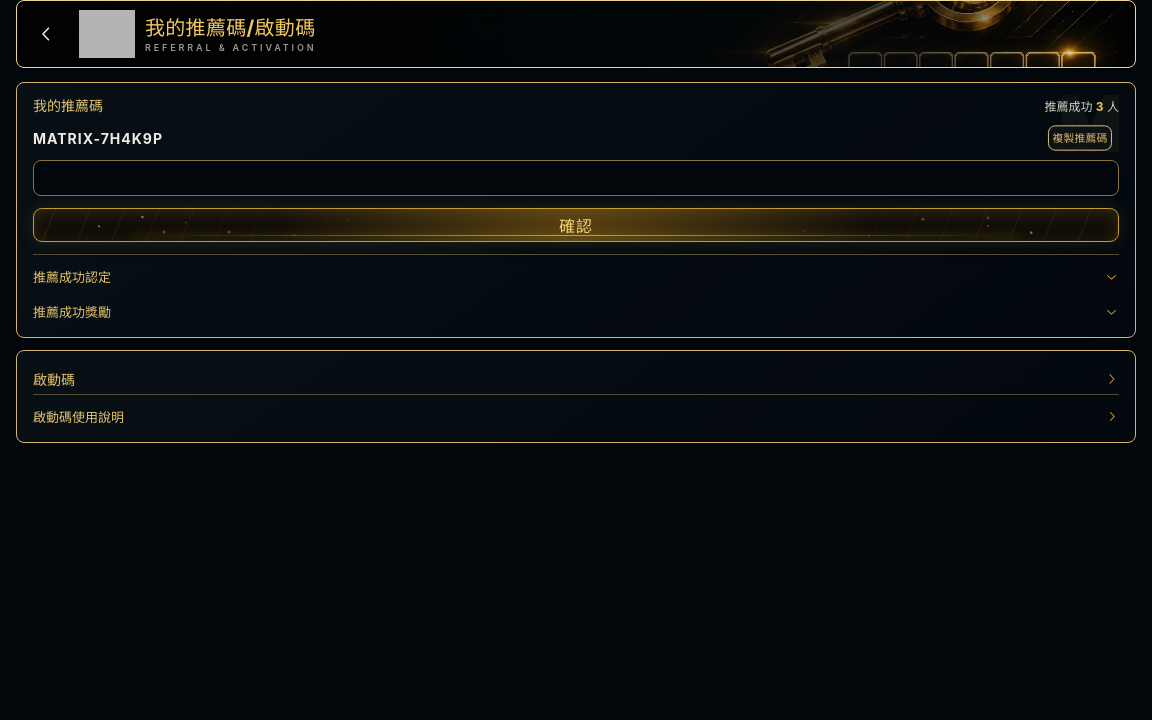
Test case: existing feature actions › shows a safe activation success and clears the redeemed code
Expected: the text "MATRIX-7H4K9P" is shown, [33, 130, 163, 146]
Click the button "啟動碼": click(54, 379) [33, 363, 1119, 395]
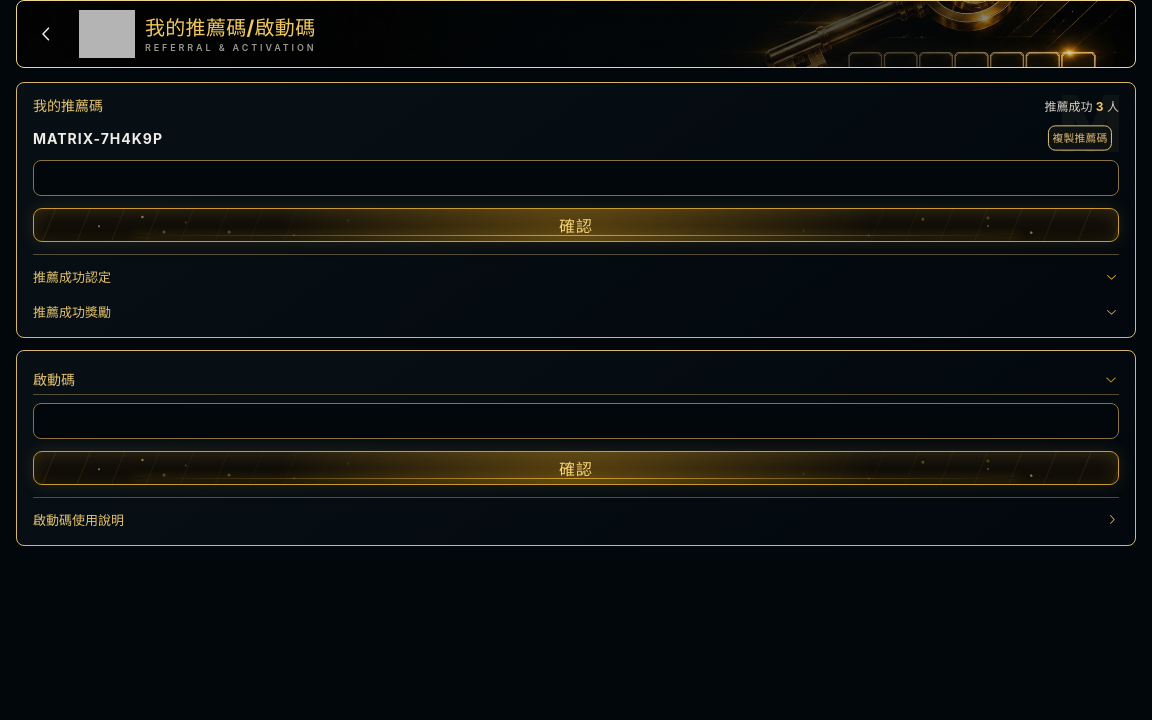
In the field named "啟動碼": (576, 421) [33, 403, 1119, 439], type "A7K9-P2XM-4Q8R-N6TY"
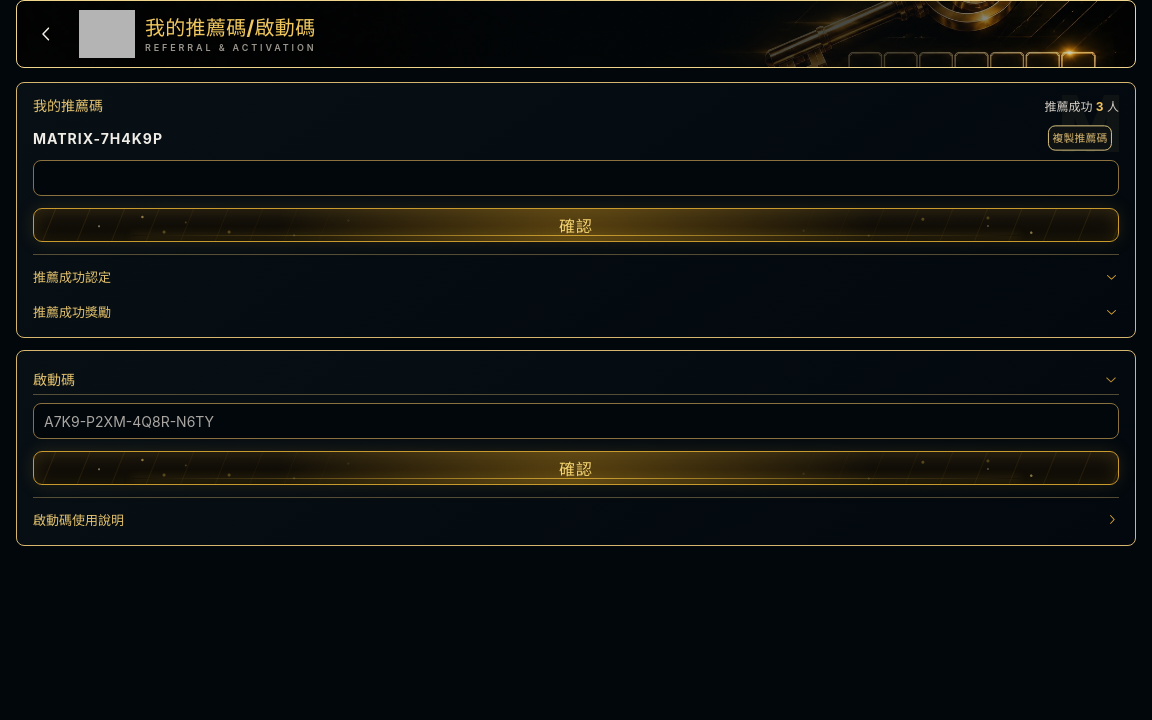
Click the 2nd button "確認": click(576, 468) [33, 451, 1119, 485]
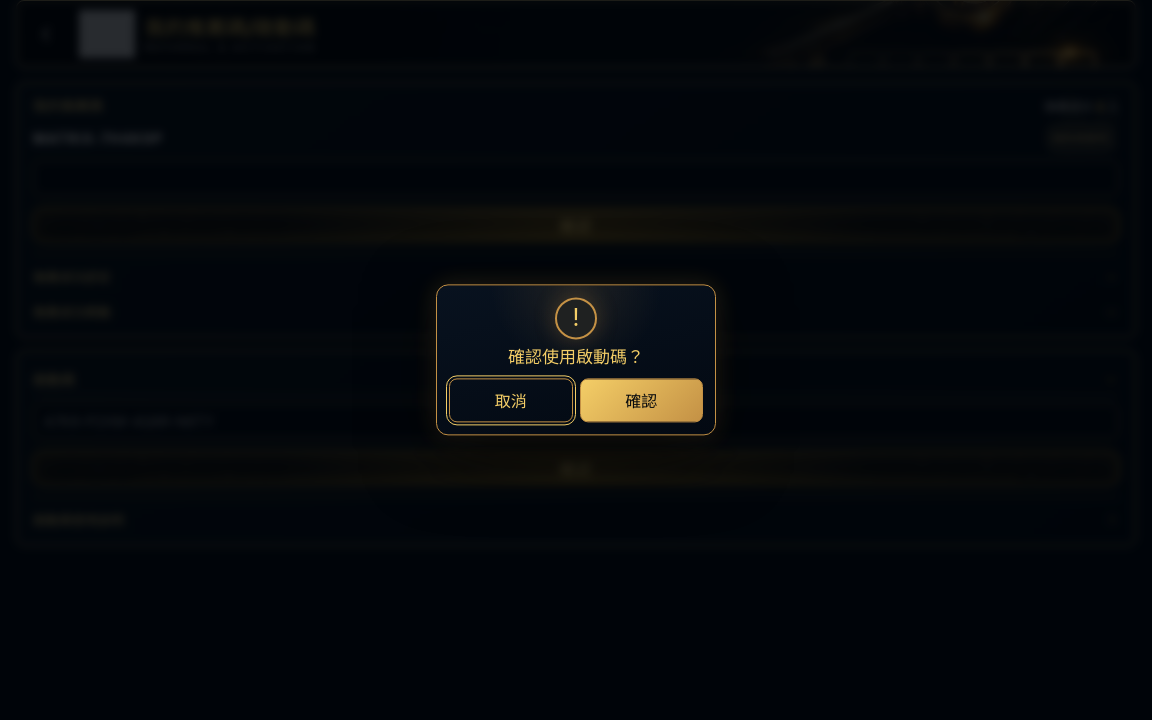
Result: the dialog shows "確認使用啟動碼？" at [508, 347, 644, 367]
Click the button "確認": click(641, 401) [580, 379, 703, 423]
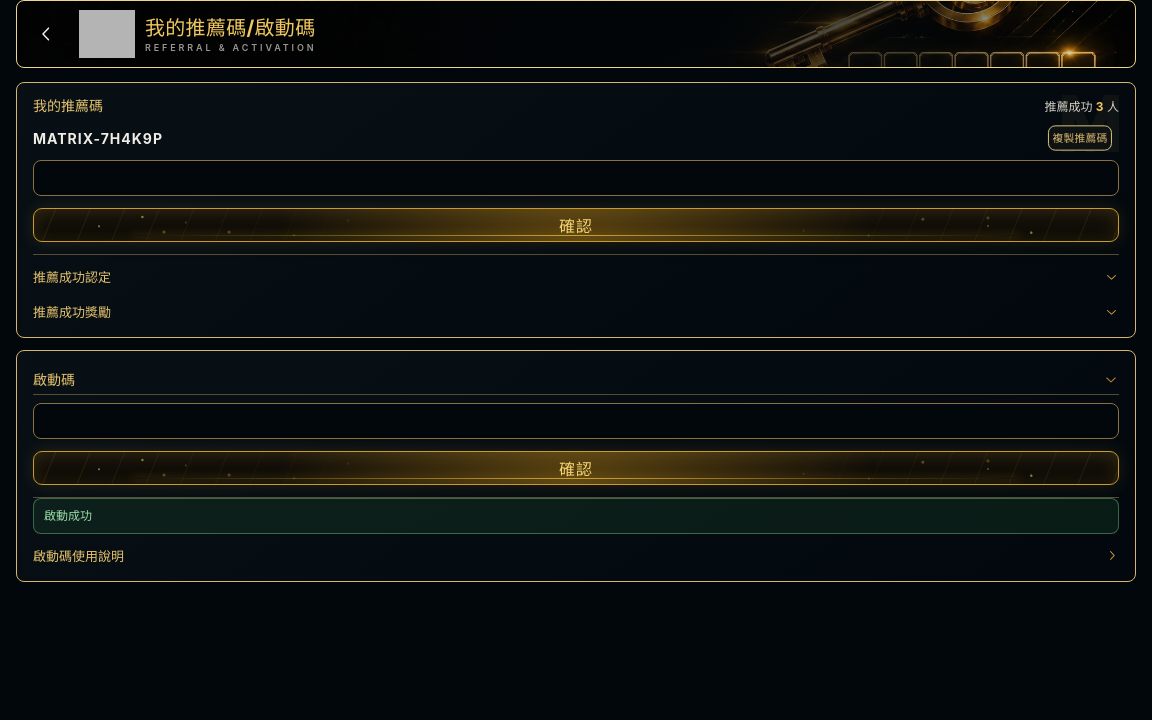
Result: the message reads "啟動成功" at [44, 508, 92, 523]
Result: the field named "啟動碼" is empty at [33, 403, 1119, 439]
